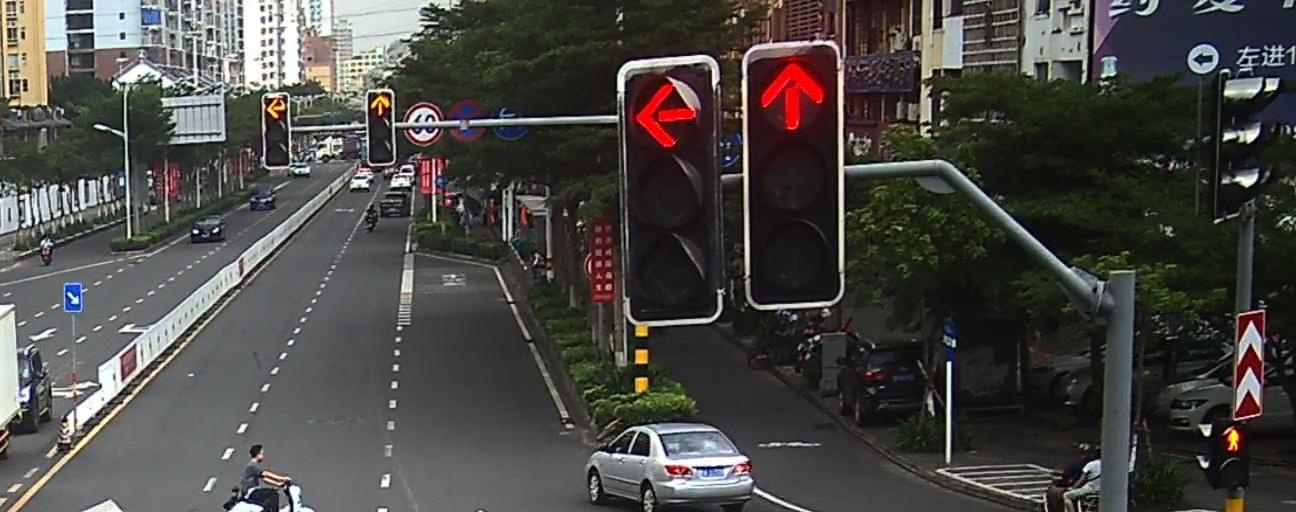redleft: (634, 82, 699, 149), (265, 96, 287, 120)
redpeople: (1220, 424, 1244, 454)
redstraight: (757, 59, 829, 133), (369, 94, 391, 117)
